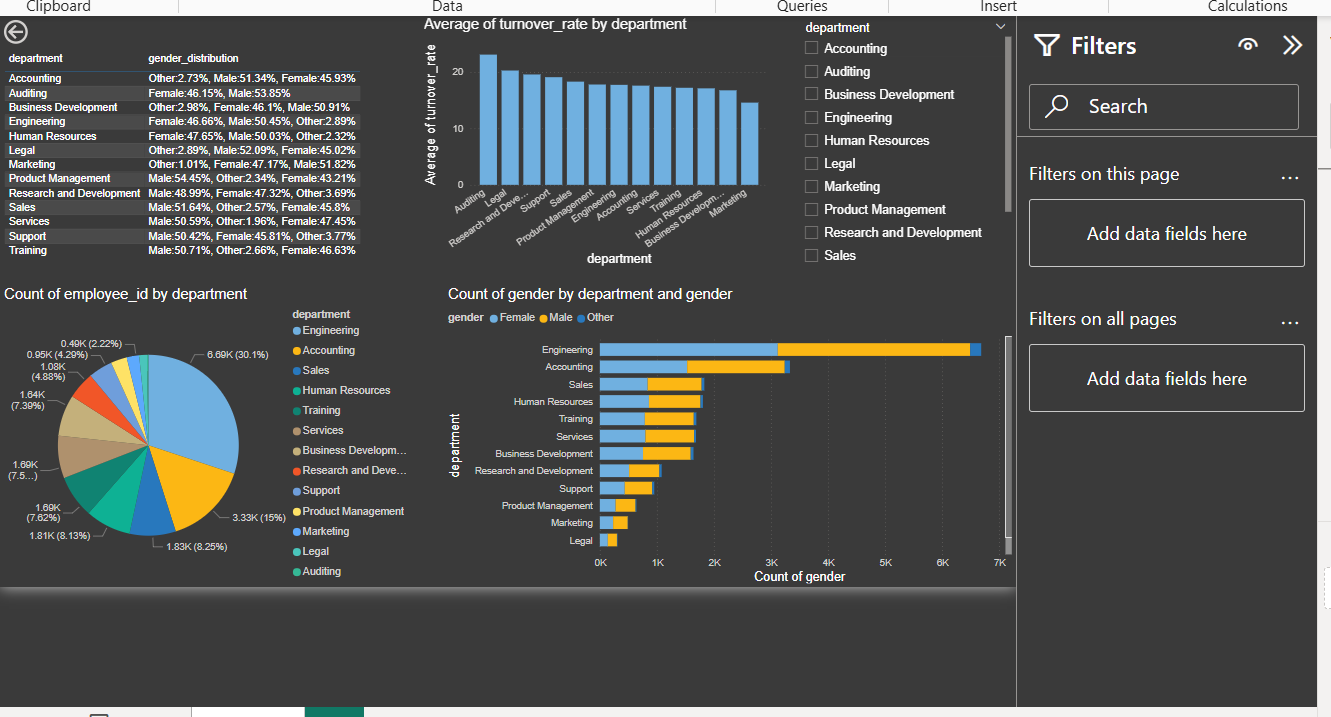

Layout of this report page (visuals, bound fields, positions):
{"tool":"powerbi","page":{"name":"Page 1","canvas":[1280,720],"ordinal":0},"visuals":[{"type":"actionButton","box":[0,0,100,40],"z":1},{"type":"pieChart","fields":{"Y":["CountNonNull(dim_fact.employee_id)"],"Category":["dim_dep.department"]},"box":[0,340.2,529.1,379.8],"z":3},{"type":"barChart","fields":{"Y":["CountNonNull(dim_emp.gender)"],"Category":["dim_dep.department"],"Series":["dim_emp.gender"]},"box":[559.4,340.2,720,379.8],"z":4},{"type":"slicer","fields":{"Values":["dim_dep.department"]},"box":[1001.6,0,277.8,319.4],"z":5},{"type":"clusteredColumnChart","fields":{"Category":["dim_dep.department"],"Y":["Avg(dim_fact.turnover_rate)"]},"box":[529.1,0,442.2,319.4],"z":7},{"type":"tableEx","fields":{"Values":["dim_dep.department","dim_fact.gender_distribution"]},"box":[0,40,529,279],"z":8}]}

Visuals, with their boxes in screenshot pixels (x1, y1, x2, y2):
actionButton: region(10, 0, 112, 10)
pieChart - CountNonNull(dim_fact.employee_id) x dim_dep.department: region(10, 315, 549, 702)
barChart - CountNonNull(dim_emp.gender) x dim_dep.department: region(580, 315, 1314, 702)
slicer - dim_dep.department: region(1031, 0, 1314, 294)
clusteredColumnChart - dim_dep.department x Avg(dim_fact.turnover_rate): region(549, 0, 1000, 294)
tableEx - dim_dep.department x dim_fact.gender_distribution: region(10, 10, 549, 294)
